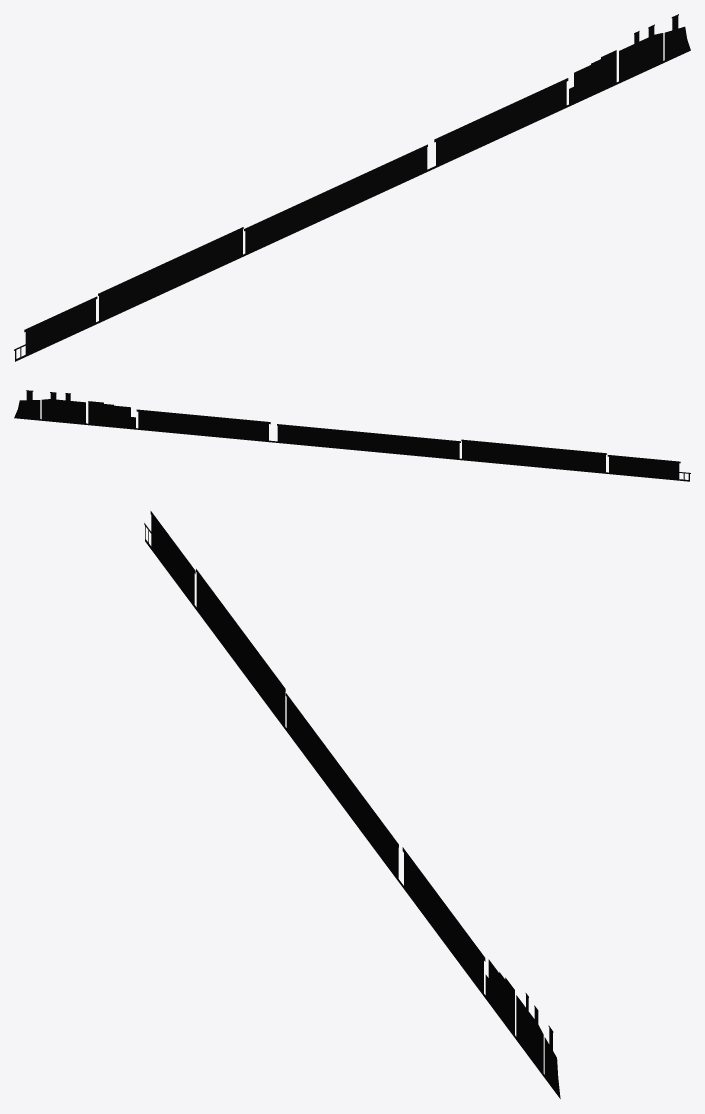
Rendered from Trem.fbx.
The picture shows the model from 3 angles, top to bottom: view 1: azimuth 30°, elevation 25°; view 2: azimuth 150°, elevation 25°; view 3: azimuth 270°, elevation 25°; orthographic projection. The views are drawn at different scales.
Parts seen in each view (by area): view 1: Trem; view 2: Trem; view 3: Trem.
Boxes of the visible parts, box(x1,y1,x2,y2) form: Trem: box(14, 14, 690, 361); Trem: box(14, 390, 690, 481); Trem: box(144, 511, 560, 1098).
Size of the model in its own units: 53632 by 2695 by 16874.
